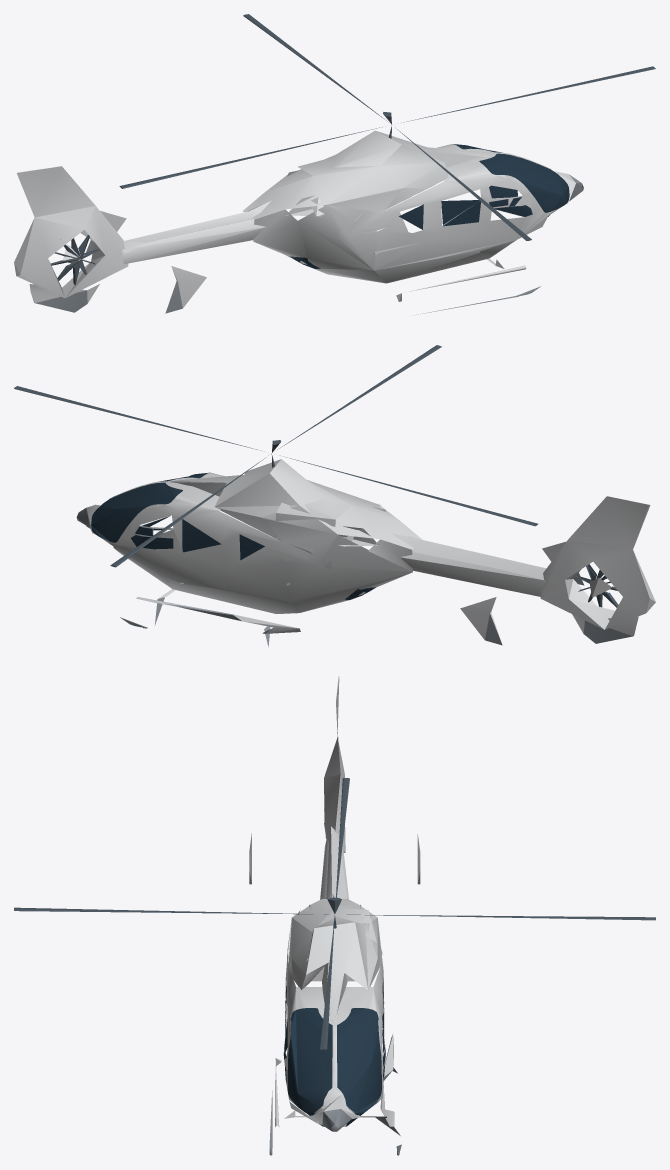
3 renders of one model, top to bottom at view 1: azimuth 30°, elevation 25°; view 2: azimuth 150°, elevation 25°; view 3: azimuth 270°, elevation 25°, orthographic. The views are drawn at different scales.
Visible parts, largest first — view 1: hull, glass, rotor, c8c939a, tail-rotor; view 2: hull, glass, rotor, c8c939a, tail-rotor; view 3: hull, glass, rotor, c8c939a.
Part boxes in pixels (x1,y1,x2,y2): hull: (14,130,575,310); glass: (290,144,569,268); rotor: (119,14,655,240); c8c939a: (32,174,583,314); tail-rotor: (50,234,99,284); hull: (86,459,655,642); glass: (91,472,375,599); rotor: (14,345,537,567); c8c939a: (76,508,635,647); tail-rotor: (575,564,618,607); hull: (249,676,420,1126); glass: (283,982,385,1126); rotor: (14,778,655,1050); c8c939a: (249,871,420,1155).
Size of the model in its own units: 16.66 by 5.42 by 13.78.
